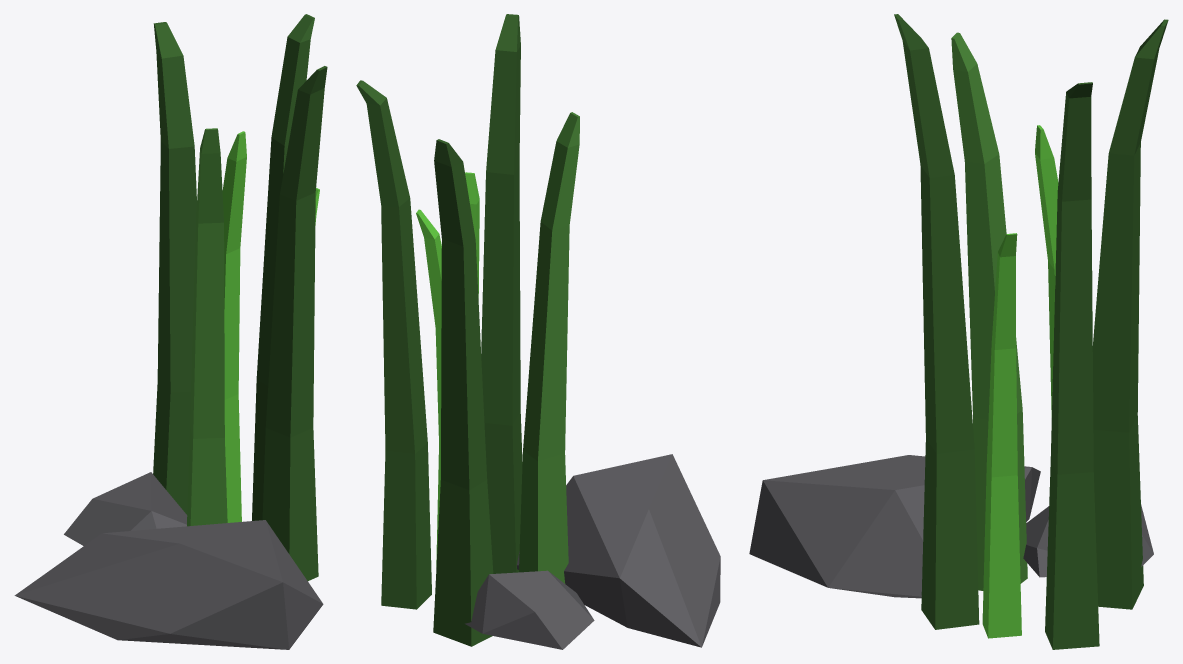
The model's file is grass_2.fbx.
3 views of the same model, side by side, from view 1: azimuth 30°, elevation 25°; view 2: azimuth 150°, elevation 25°; view 3: azimuth 270°, elevation 25° (orthographic). The views are drawn at different scales.
Parts seen in each view (by area): view 1: grass_2; view 2: grass_2; view 3: grass_2.
Part boxes in pixels (<box>): grass_2: <box>14,14,327,649</box>; grass_2: <box>356,14,720,649</box>; grass_2: <box>749,14,1168,649</box>.
Size of the model in its own units: 136 by 215 by 134.
